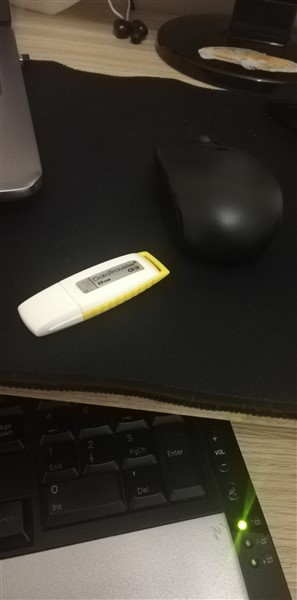flash disk: (16, 246, 170, 339)
klavye: (1, 374, 296, 595)
mouse: (145, 131, 284, 271)
